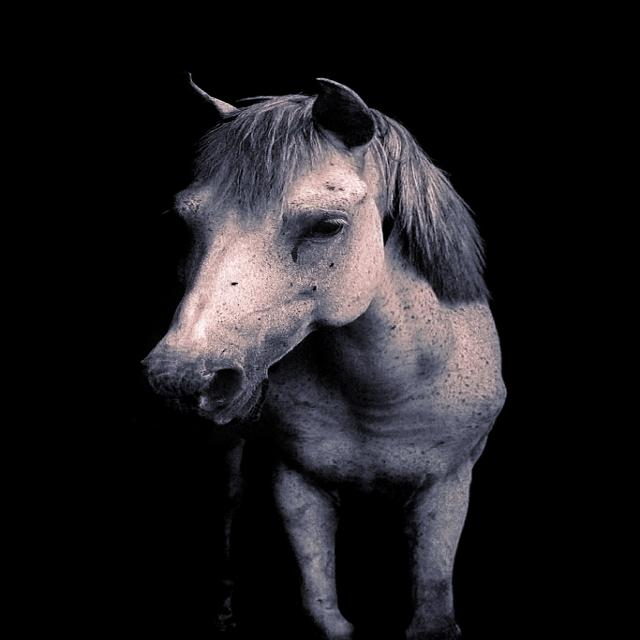Horse: (135, 75, 504, 640)
